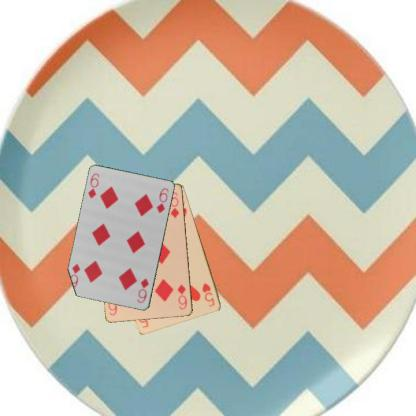5h: (200, 280, 216, 308)
6d: (135, 275, 150, 304), (85, 171, 100, 200), (175, 282, 188, 311)
